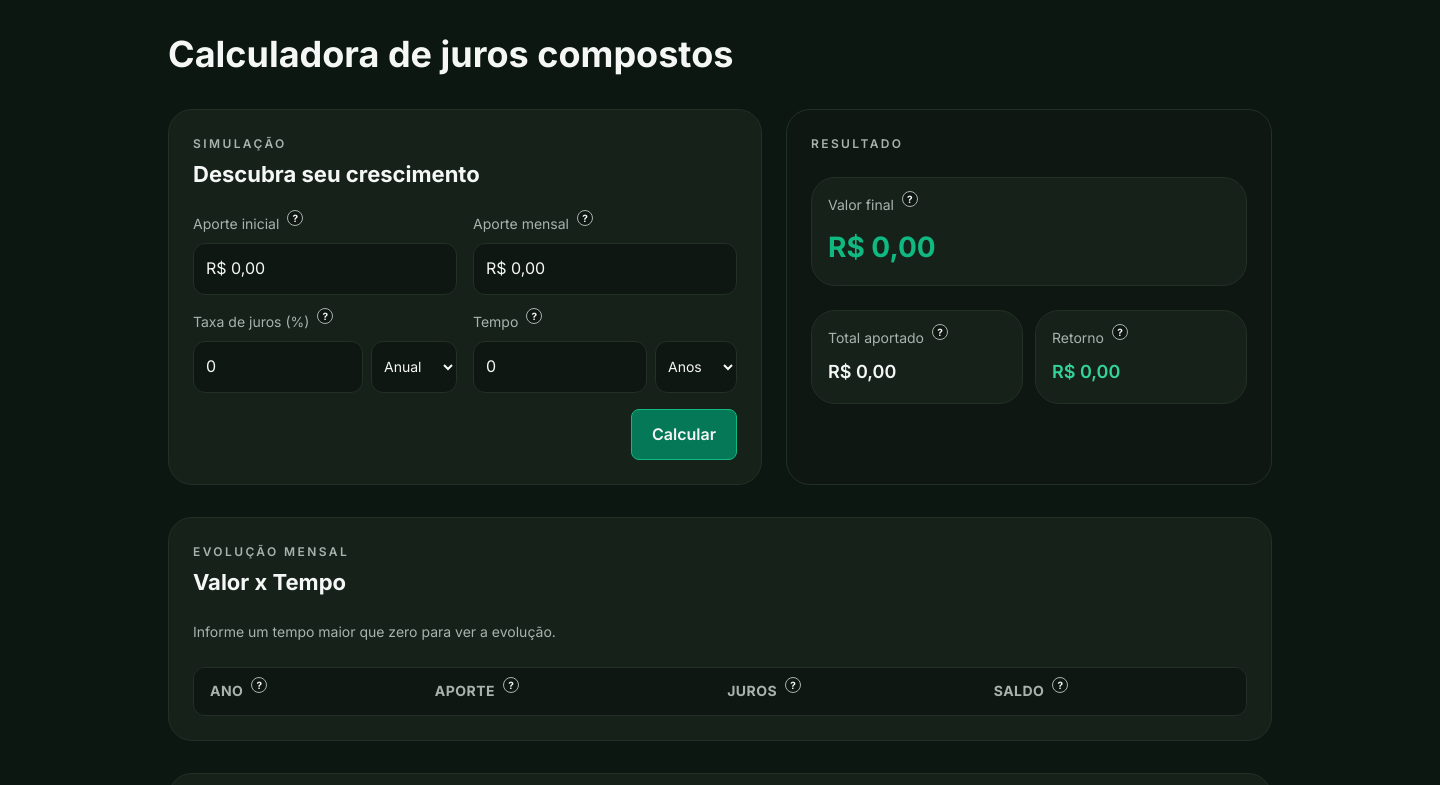
CompoundInterestCalculator › paginates the monthly breakdown twelve rows at a time
Type "10000" into the field labelled "Aporte mensal" at (605, 269), box [473, 243, 737, 295]
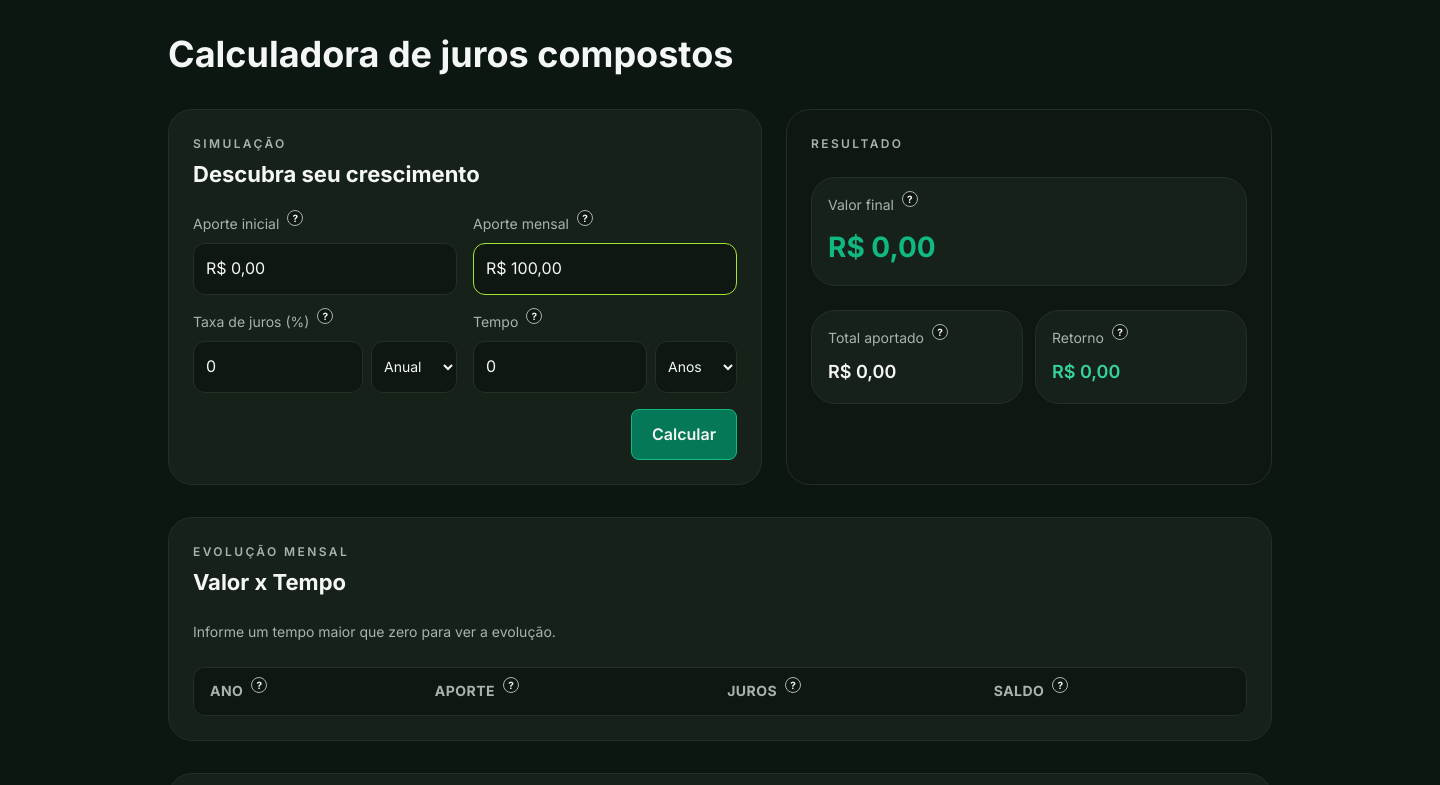
Replace the text in the field labelled "Tempo" with "18" at (560, 367), box [473, 341, 647, 393]
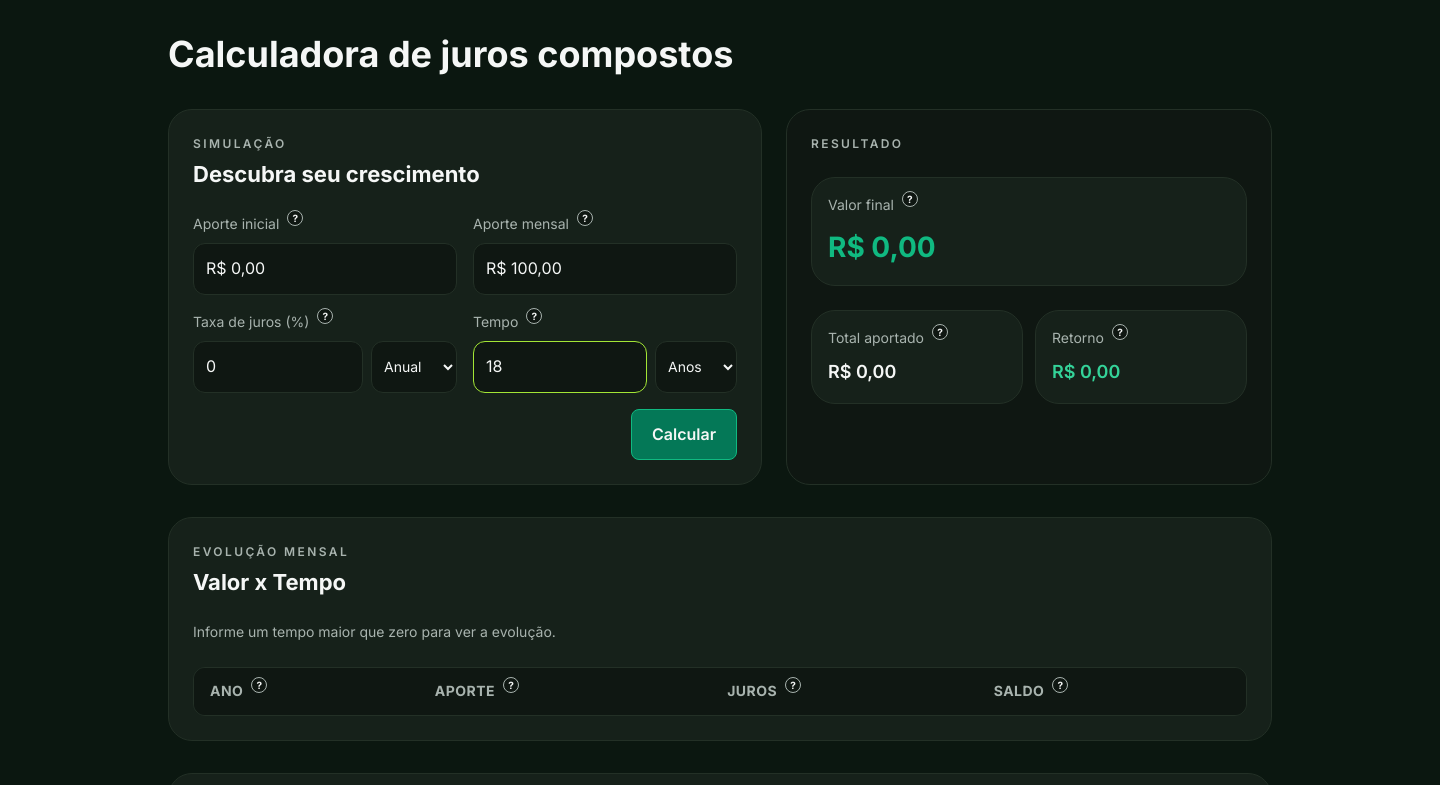
Select "Meses" in the dropdown named "Unidade do tempo" at (696, 367), box [655, 341, 737, 393]
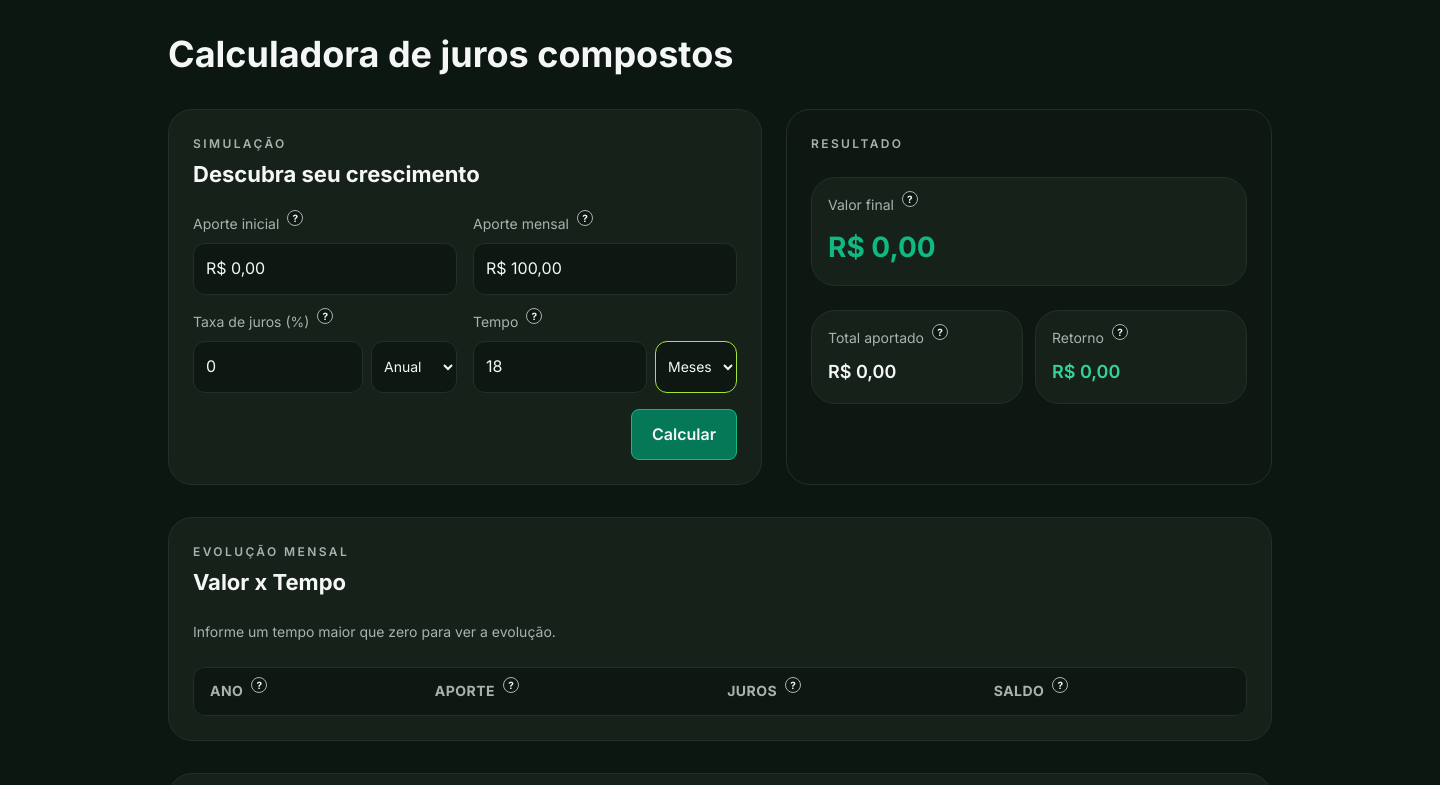
Click the button "Calcular" at (684, 434), box [631, 409, 737, 460]
(page scrolled)
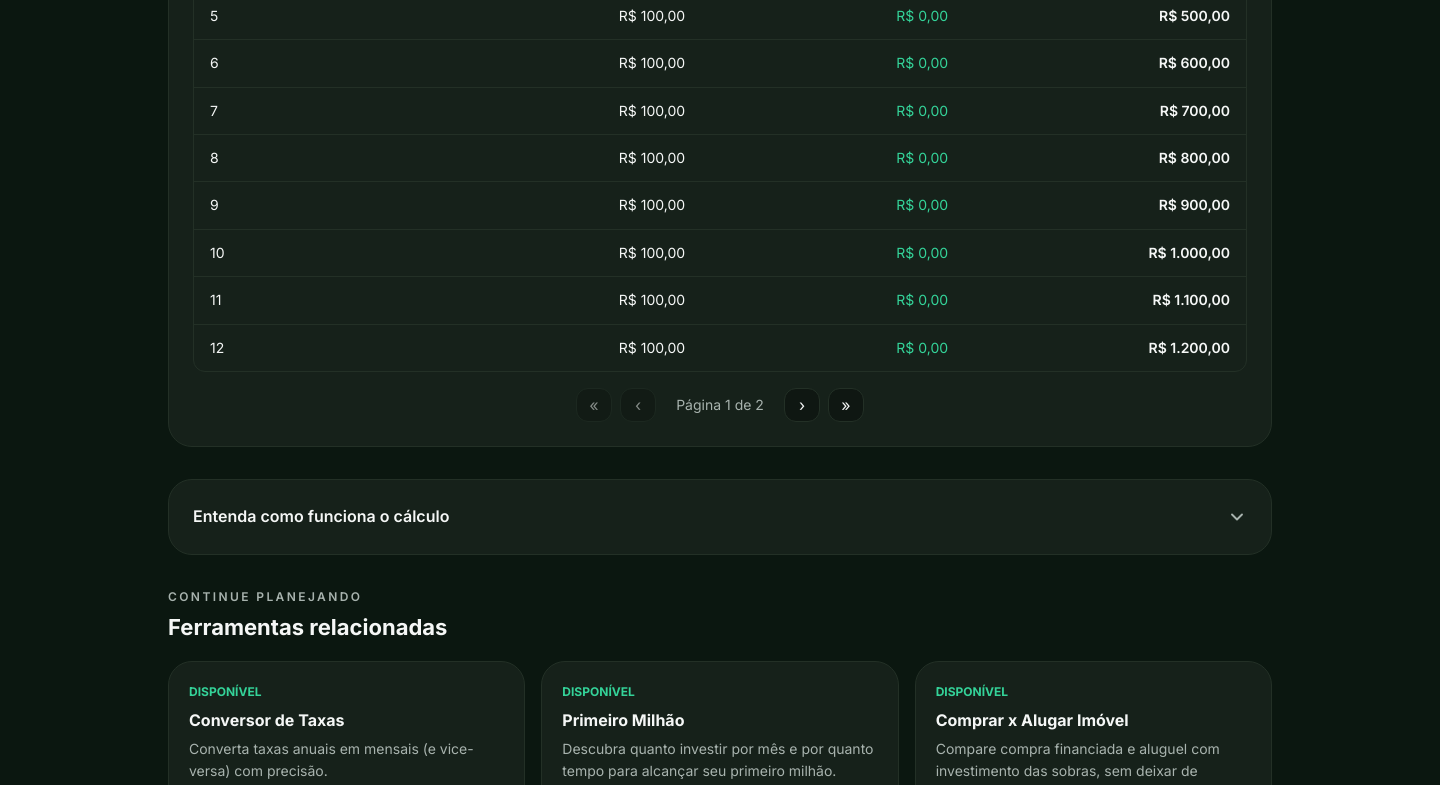
Result: the number of rows is 13
Result: the text "Página 1 de 2" is shown at [676, 396, 764, 413]
Click the button named "Última página" at (846, 405), box [828, 388, 864, 422]
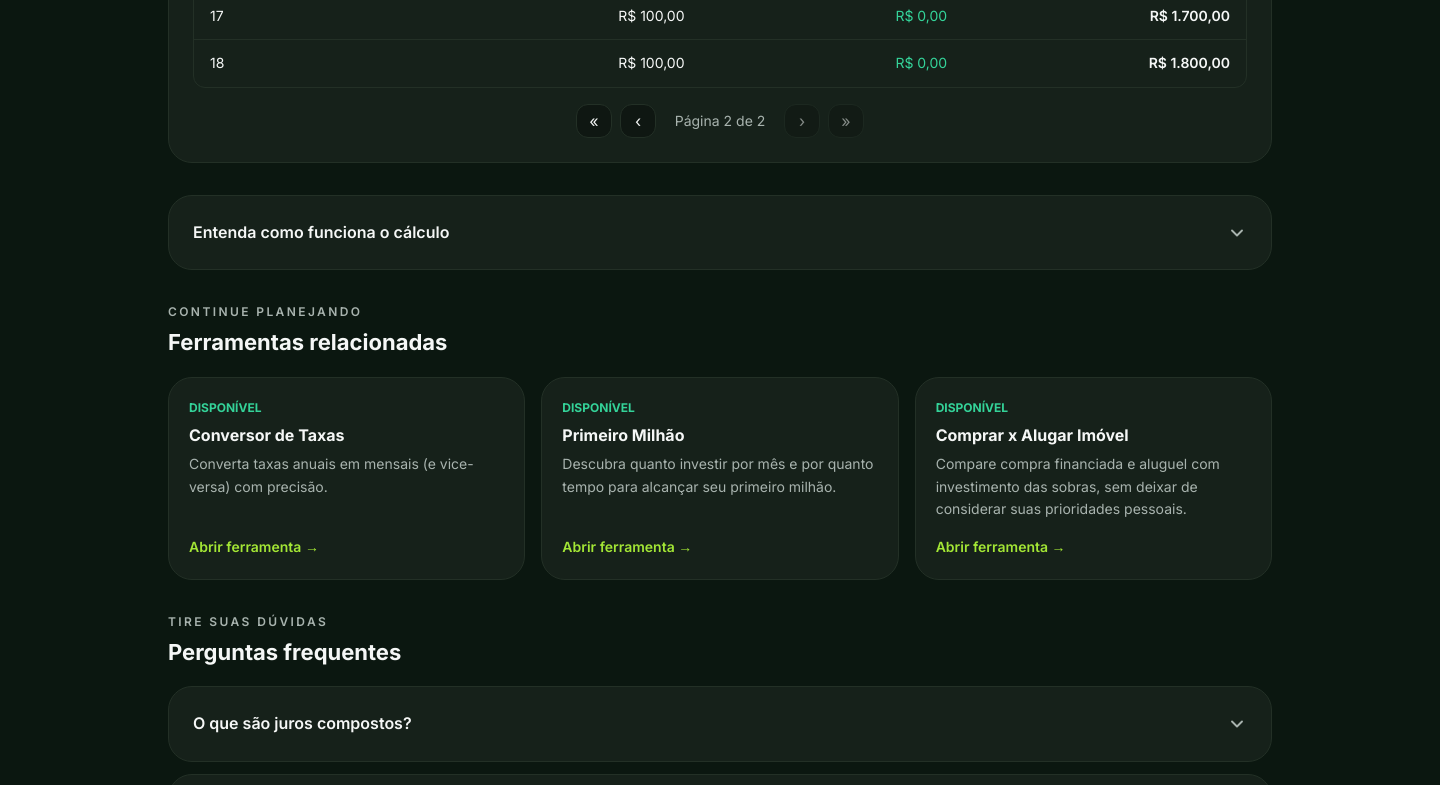
Result: the number of rows is 7
Result: the text "Página 2 de 2" is shown at [675, 112, 765, 128]
Click the button named "Primeira página" at (594, 121), box [576, 104, 612, 138]
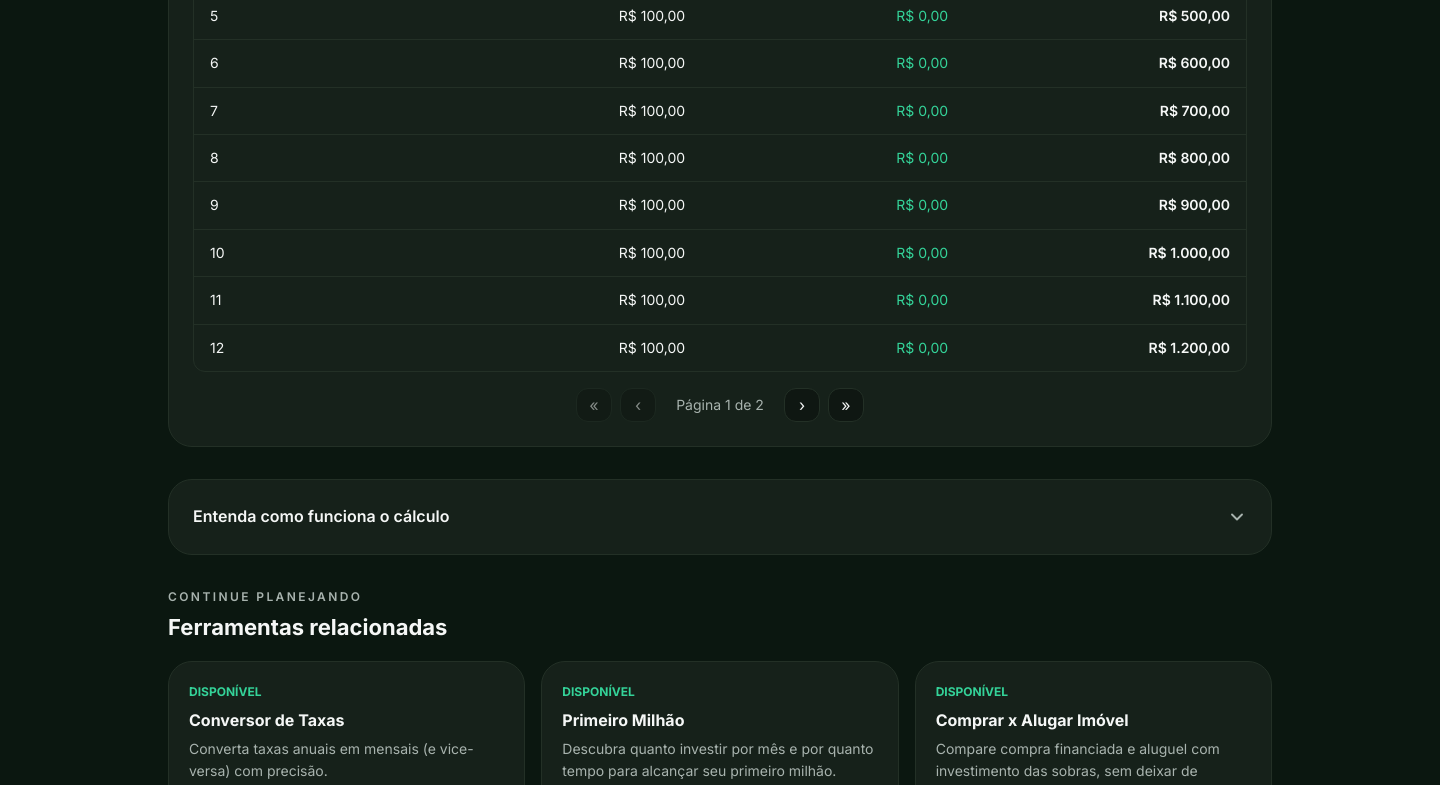
Result: the text "Página 1 de 2" is shown at [676, 396, 764, 413]
